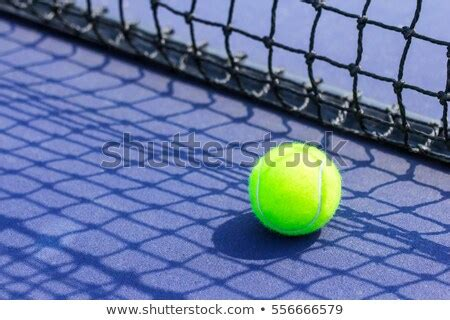tennis_ball: (248, 142, 341, 236)
